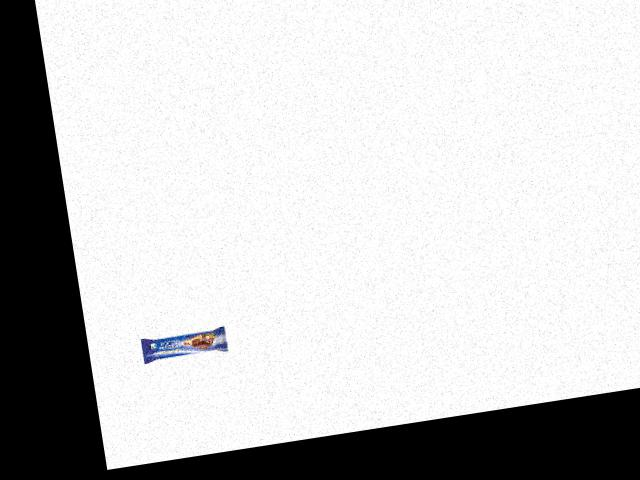chocolate: (137, 316, 239, 365)
